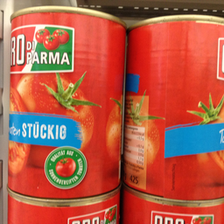tomato_sauce: (7, 5, 126, 199), (125, 14, 224, 202)
